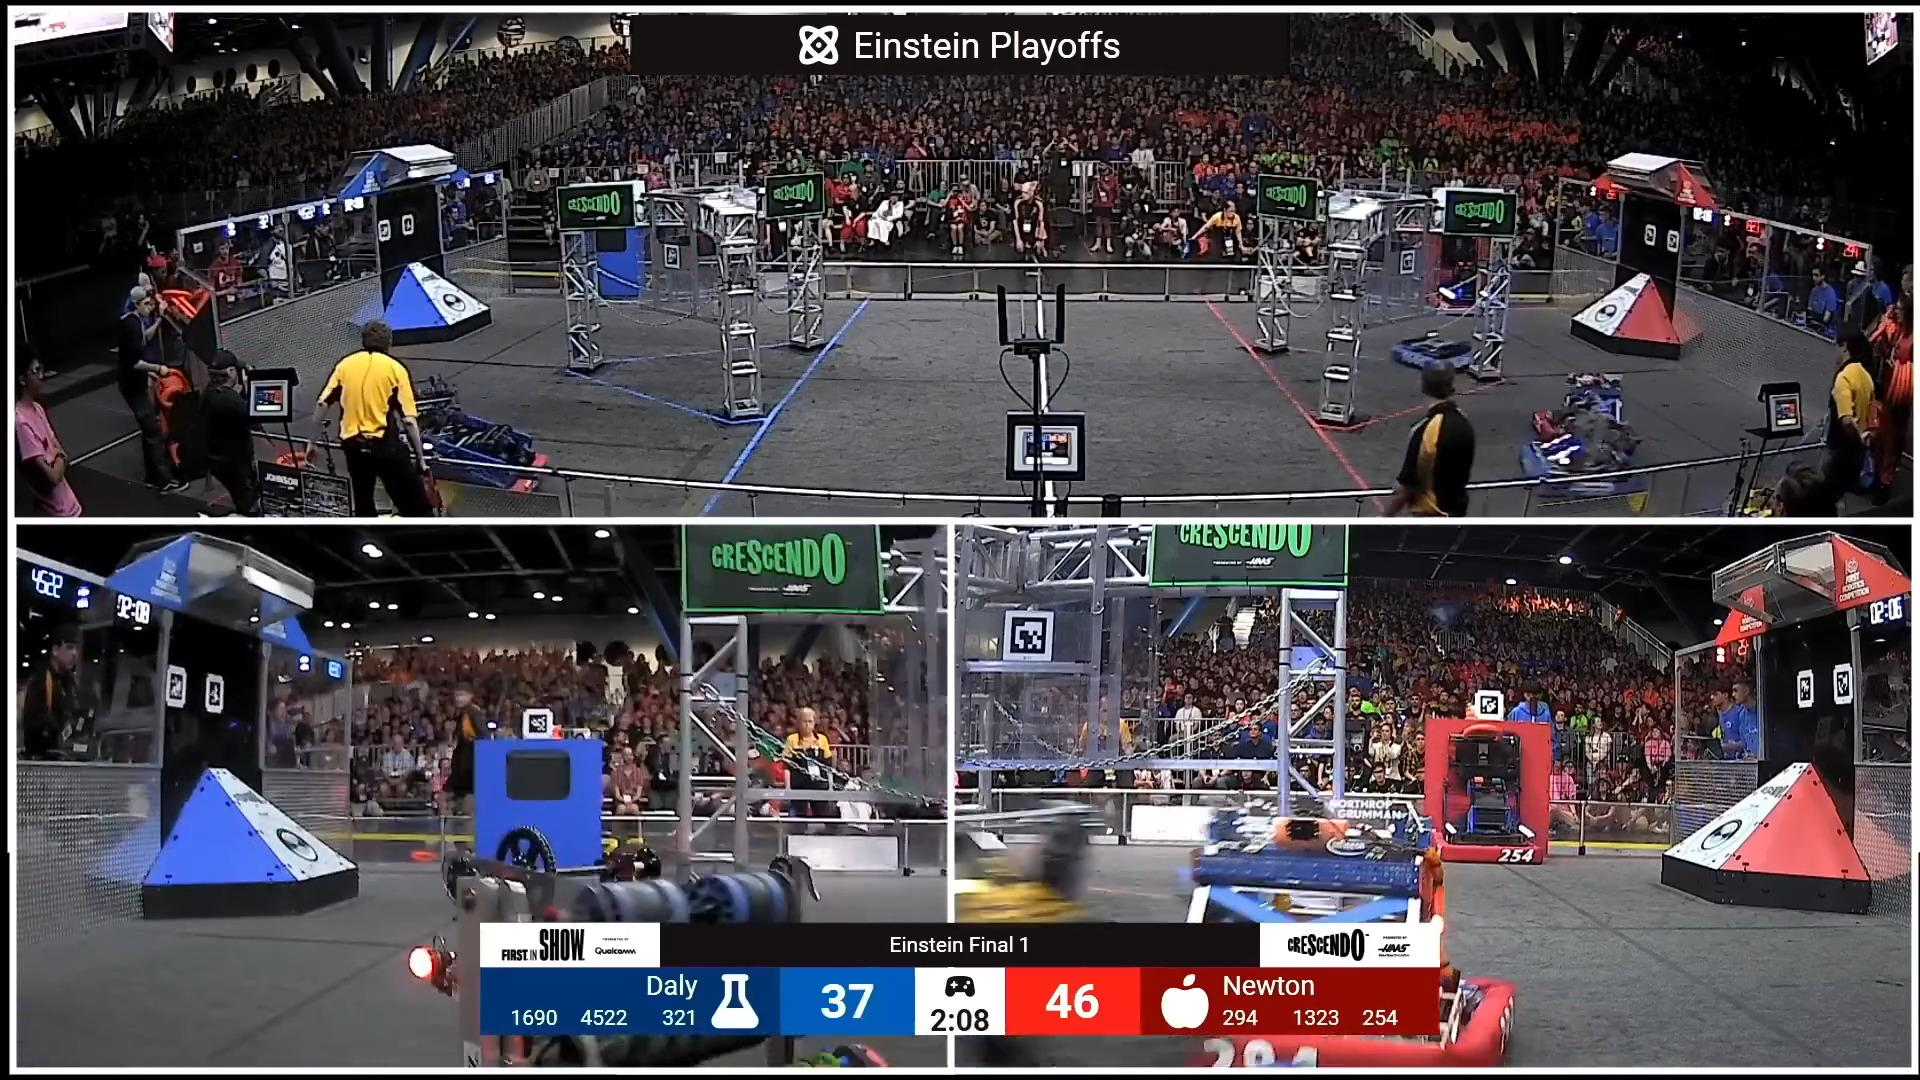blue_idle: (1386, 318, 1482, 380)
red_amping: (1424, 709, 1563, 869)
red_idle: (425, 407, 556, 496)
